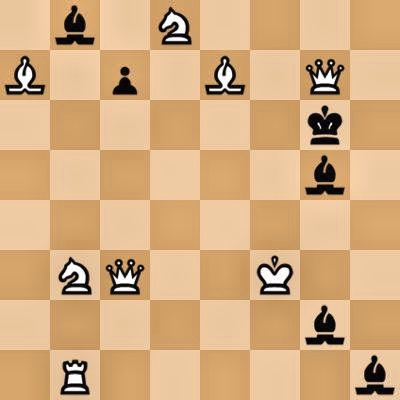black-bishop: (50, 0, 100, 50), (300, 150, 350, 200), (300, 300, 350, 350), (350, 350, 400, 400)
black-king: (300, 100, 350, 150)
black-pawn: (100, 50, 150, 100)
white-bishop: (0, 50, 50, 100), (200, 50, 250, 100)
white-king: (250, 250, 300, 300)
white-knight: (150, 0, 200, 50), (50, 250, 100, 300)
white-queen: (300, 50, 350, 100), (100, 250, 150, 300)
white-rook: (50, 350, 100, 400)
